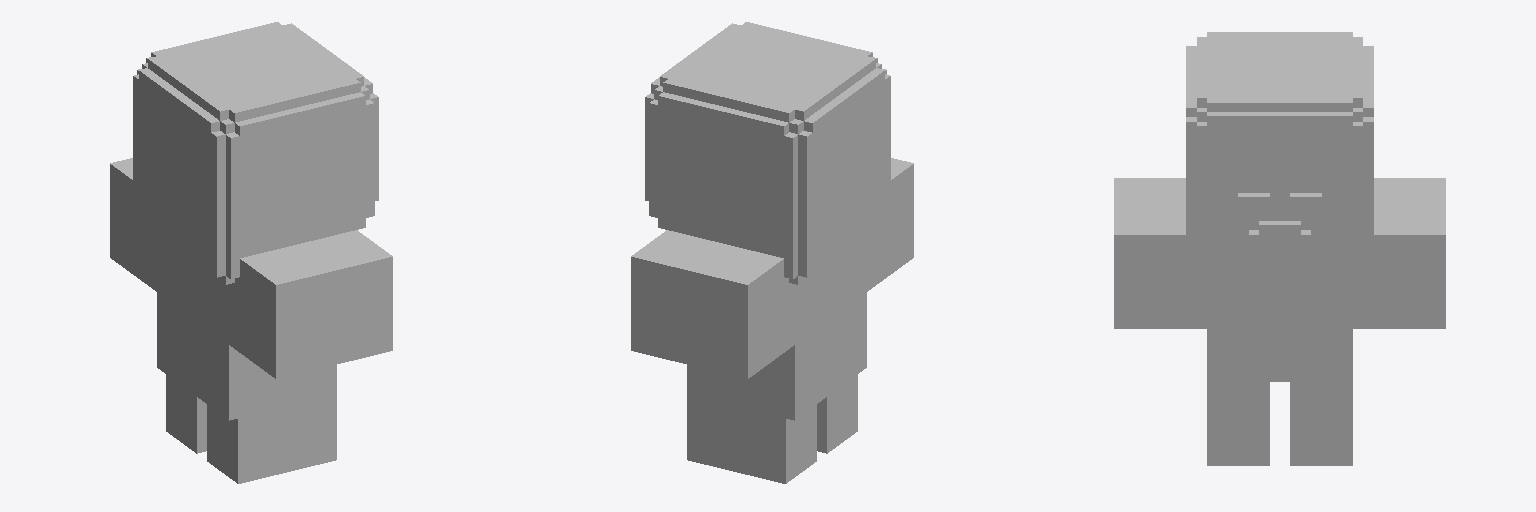
The model's file is VoxelPlayer.obj.
The picture shows the model from 3 angles: view 1: azimuth 30°, elevation 25°; view 2: azimuth 150°, elevation 25°; view 3: azimuth 270°, elevation 25°; orthographic projection.
Visible parts, largest first — view 1: VoxelPlayer; view 2: VoxelPlayer; view 3: VoxelPlayer.
Boxes of the visible parts, <box> form: VoxelPlayer: <box>110,22,392,483</box>; VoxelPlayer: <box>631,22,913,483</box>; VoxelPlayer: <box>1114,32,1445,465</box>.
Size of the model in its own units: 18 by 40 by 32.